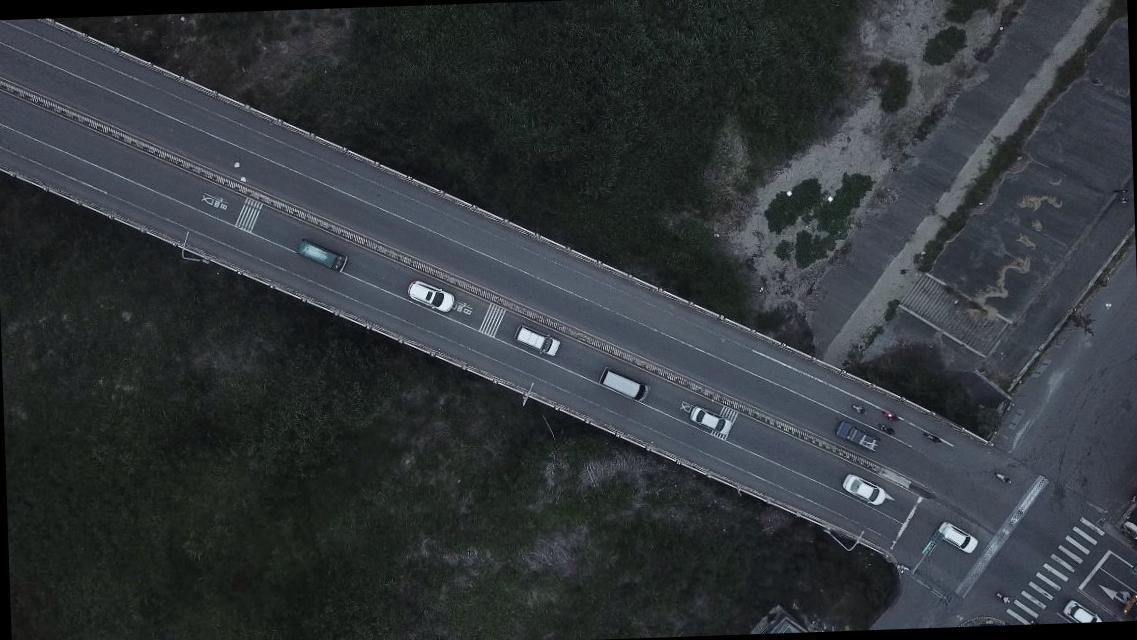vehicle: (598, 364, 651, 405), (294, 238, 348, 274), (404, 276, 454, 314), (515, 322, 562, 359), (841, 471, 886, 508), (938, 520, 978, 555), (687, 405, 732, 436), (834, 420, 876, 452), (1059, 598, 1102, 622)
